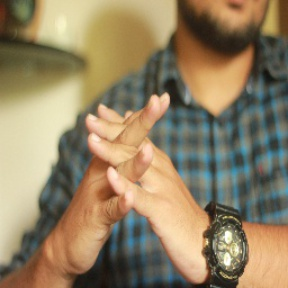W: (73, 81, 184, 251)
